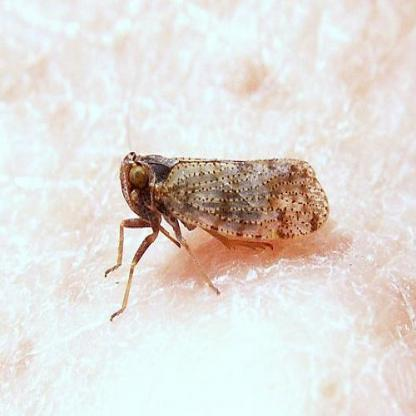brown-planthopper: (115, 148, 330, 250)
